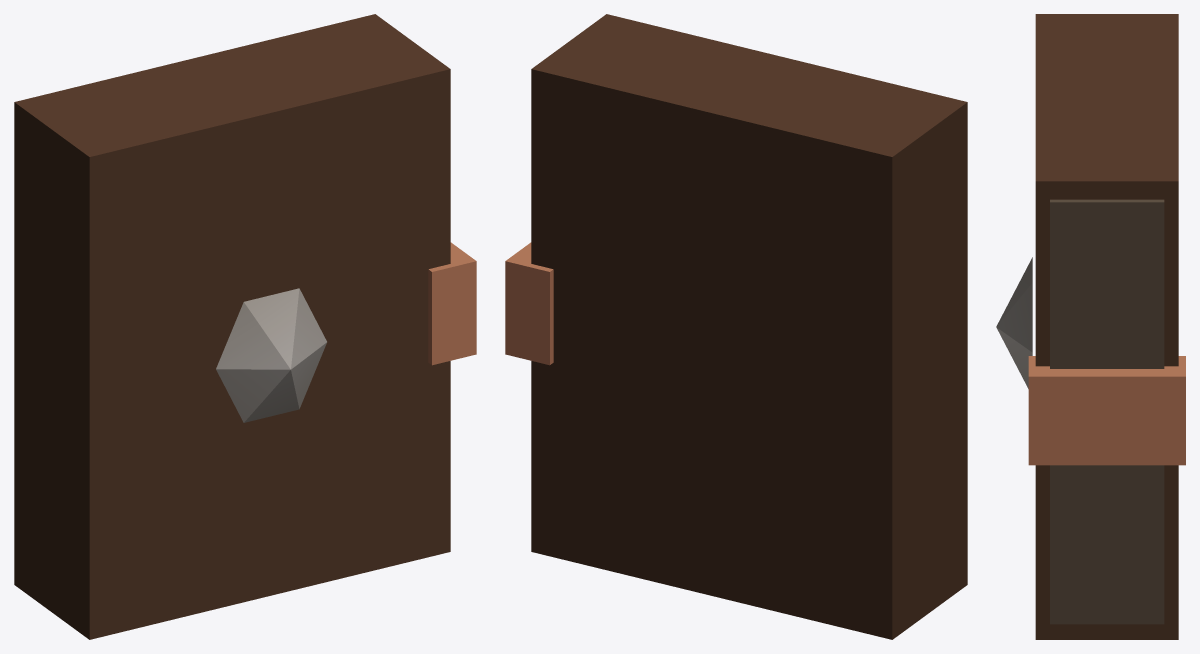
File: mage_tome_0.gltf
The picture shows the model from 3 angles, left to right: view 1: azimuth 30°, elevation 25°; view 2: azimuth 150°, elevation 25°; view 3: azimuth 270°, elevation 25°; orthographic projection. The views are drawn at different scales.
Visible parts, largest first — view 1: mage_tome_0; view 2: mage_tome_0; view 3: mage_tome_0.
Boxes of the visible parts, x1,y1,x2,y2 form: mage_tome_0: [14, 14, 476, 639]; mage_tome_0: [505, 14, 967, 639]; mage_tome_0: [996, 14, 1185, 639].
Bounding box in the file's own units: 0.344 × 0.414 × 0.1552.
1 material, 1 textured.
